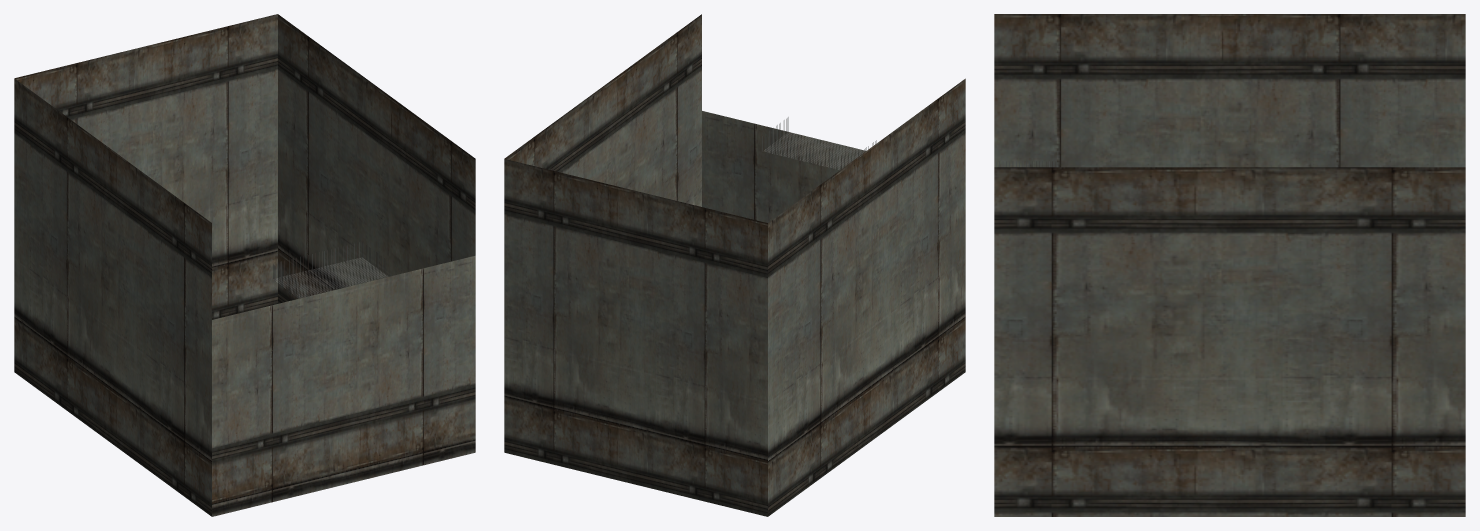
Rendered from pockitworld3.glb.
3 renders of one model, left to right at view 1: azimuth 30°, elevation 25°; view 2: azimuth 150°, elevation 25°; view 3: azimuth 270°, elevation 25°, orthographic. The views are drawn at different scales.
Visible parts, largest first — view 1: Plane.001, Plane; view 2: Plane.001, Plane; view 3: Plane.001.
Part boxes in pixels (x1,y1,x2,y2): Plane.001: (14, 14, 475, 516); Plane: (273, 242, 385, 297); Plane.001: (504, 14, 965, 516); Plane: (762, 117, 876, 169); Plane.001: (994, 14, 1465, 516).
Size of the model in its own units: 10.87 by 11.57 by 14.12.
Materials: 2 (2 with a texture image).
